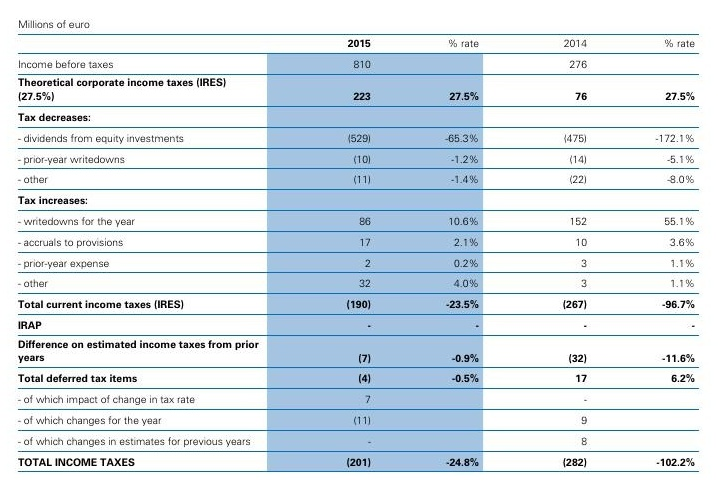table: (0, 0, 718, 486)
